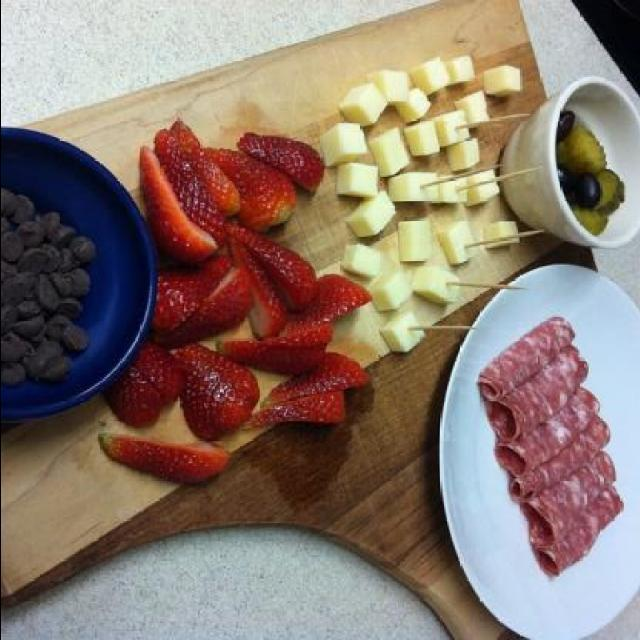Strawberry: (151, 129, 229, 249), (138, 148, 220, 260), (166, 118, 242, 220), (207, 147, 293, 231), (171, 340, 251, 428), (158, 269, 250, 345), (238, 224, 316, 313), (224, 229, 288, 337), (142, 259, 232, 335), (99, 432, 230, 484), (261, 350, 365, 408), (236, 131, 326, 191), (281, 276, 370, 334), (217, 339, 325, 375), (246, 387, 346, 425), (102, 366, 160, 428), (132, 340, 180, 402), (263, 324, 329, 346)
